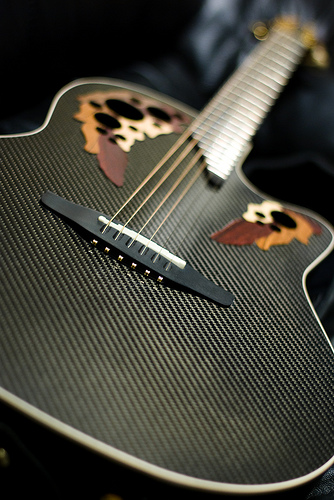guitar: (1, 1, 334, 499)
